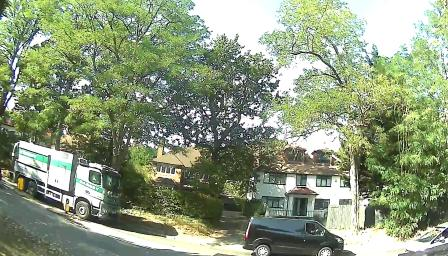Cars: (12, 130, 122, 224), (244, 213, 348, 256)
